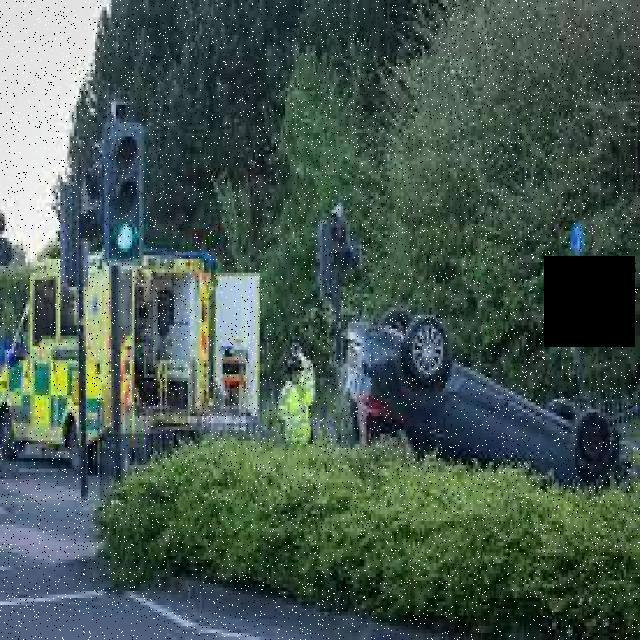single accident: (300, 250, 630, 498)
